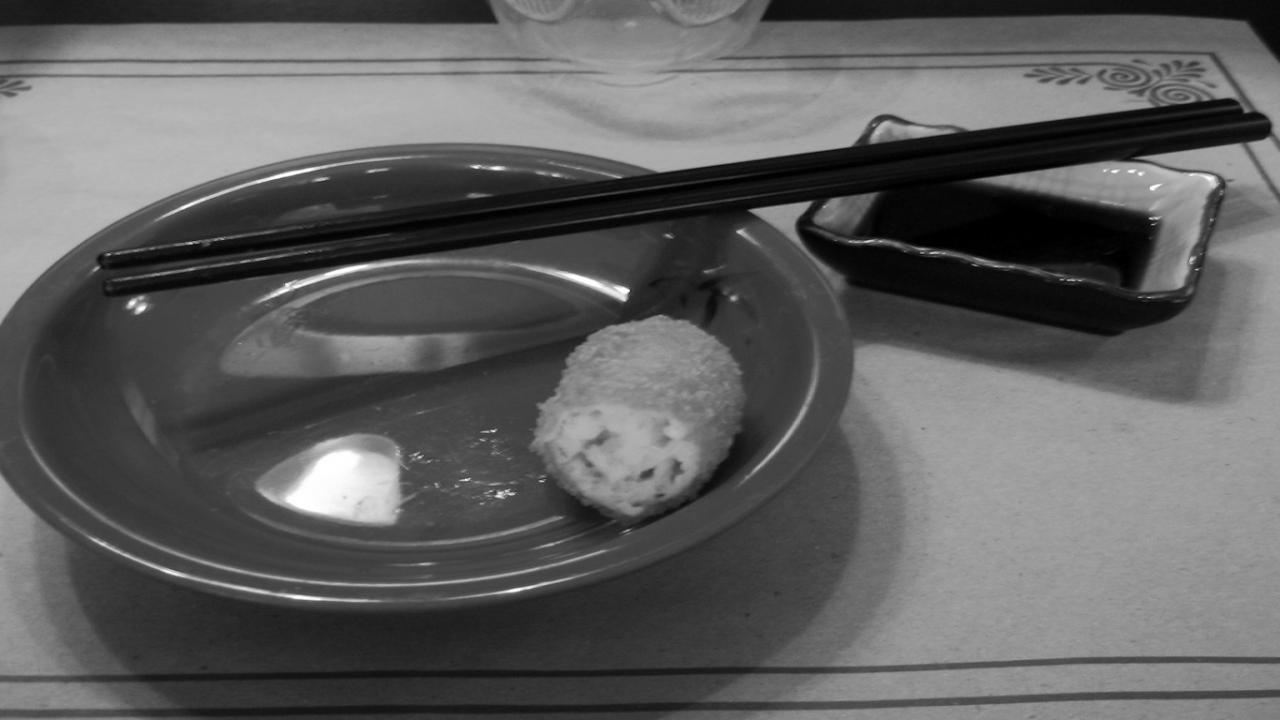chopstick: (104, 98, 1266, 294)
